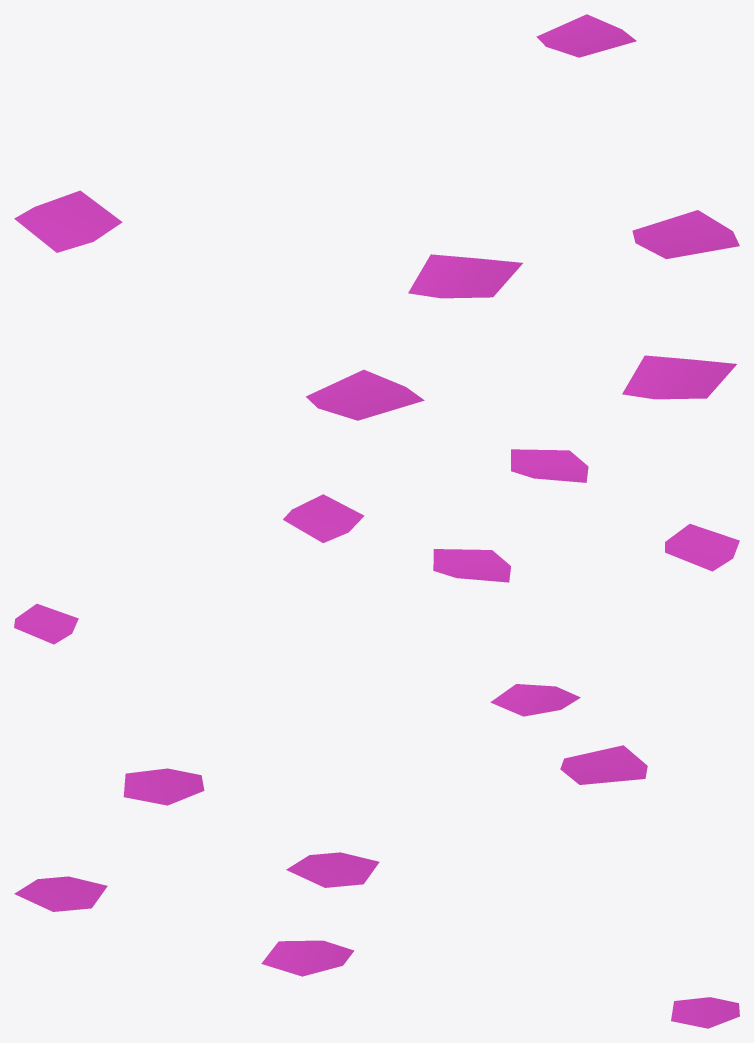
Rendered from kirschenblueten01.FBX.
3 views of the same model, one above another, from view 1: azimuth 30°, elevation 25°; view 2: azimuth 150°, elevation 25°; view 3: azimuth 270°, elevation 25° (orthographic). The views are drawn at different scales.
Parts seen in each view (by area): view 1: kirschblueten01; view 2: kirschblueten01; view 3: kirschblueten01.
Boxes of the visible parts, x1,y1,x2,y2 form: kirschblueten01: [14, 14, 739, 420]; kirschblueten01: [14, 449, 739, 716]; kirschblueten01: [14, 745, 739, 1028].
Size of the model in its own units: 19.17 by 0.3137 by 21.18.
